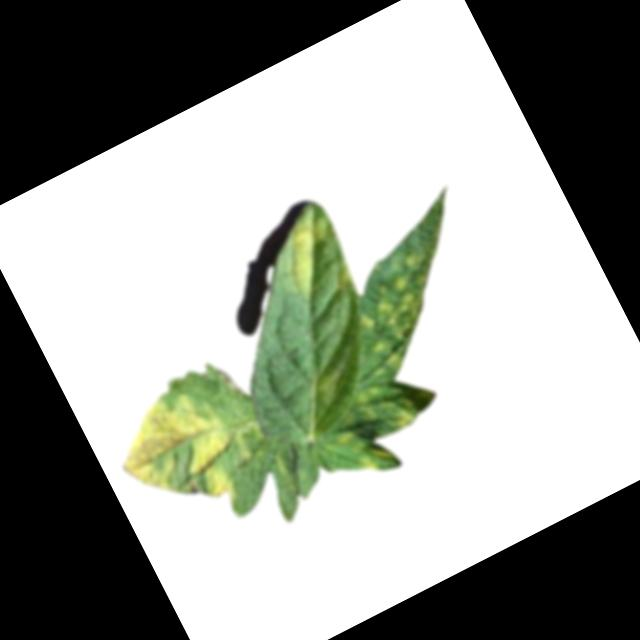Leaf_Mold: (102, 371, 269, 539), (336, 240, 480, 380), (268, 208, 359, 309), (334, 417, 403, 488), (381, 388, 425, 433)
